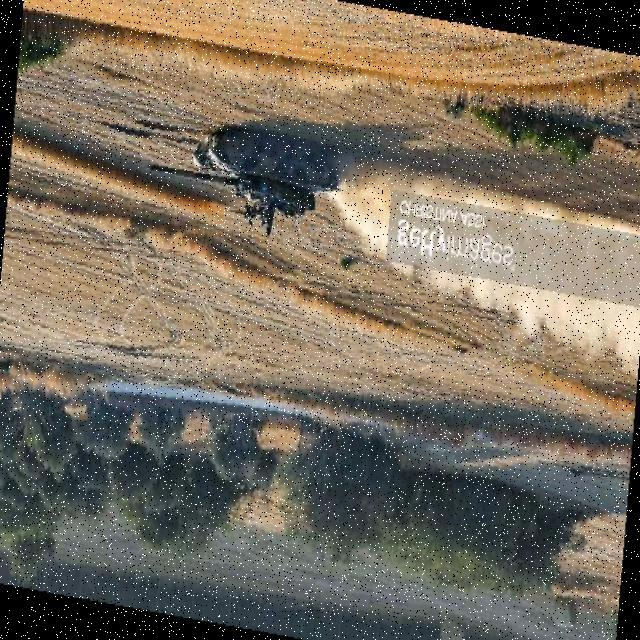MIL_MBT: (148, 129, 342, 241)
